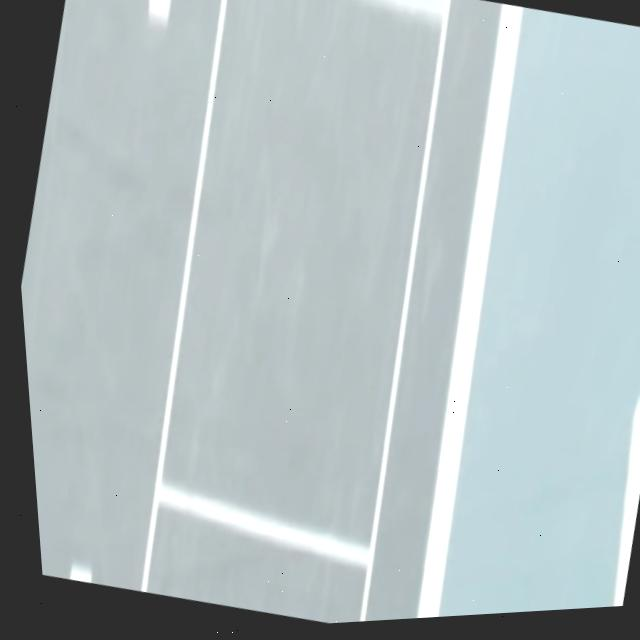center: (148, 0, 170, 26), (69, 563, 92, 583)
left: (417, 3, 523, 618)
